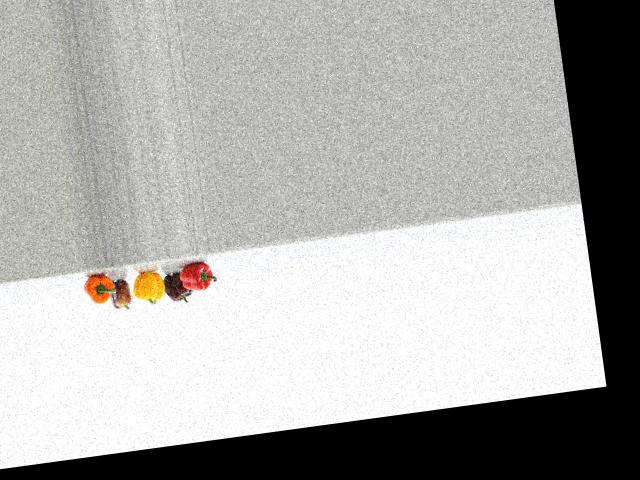bell_pepper: (81, 269, 118, 315)
